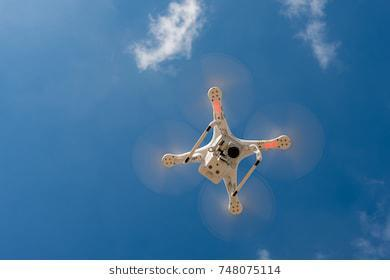drone: (161, 87, 294, 218)
